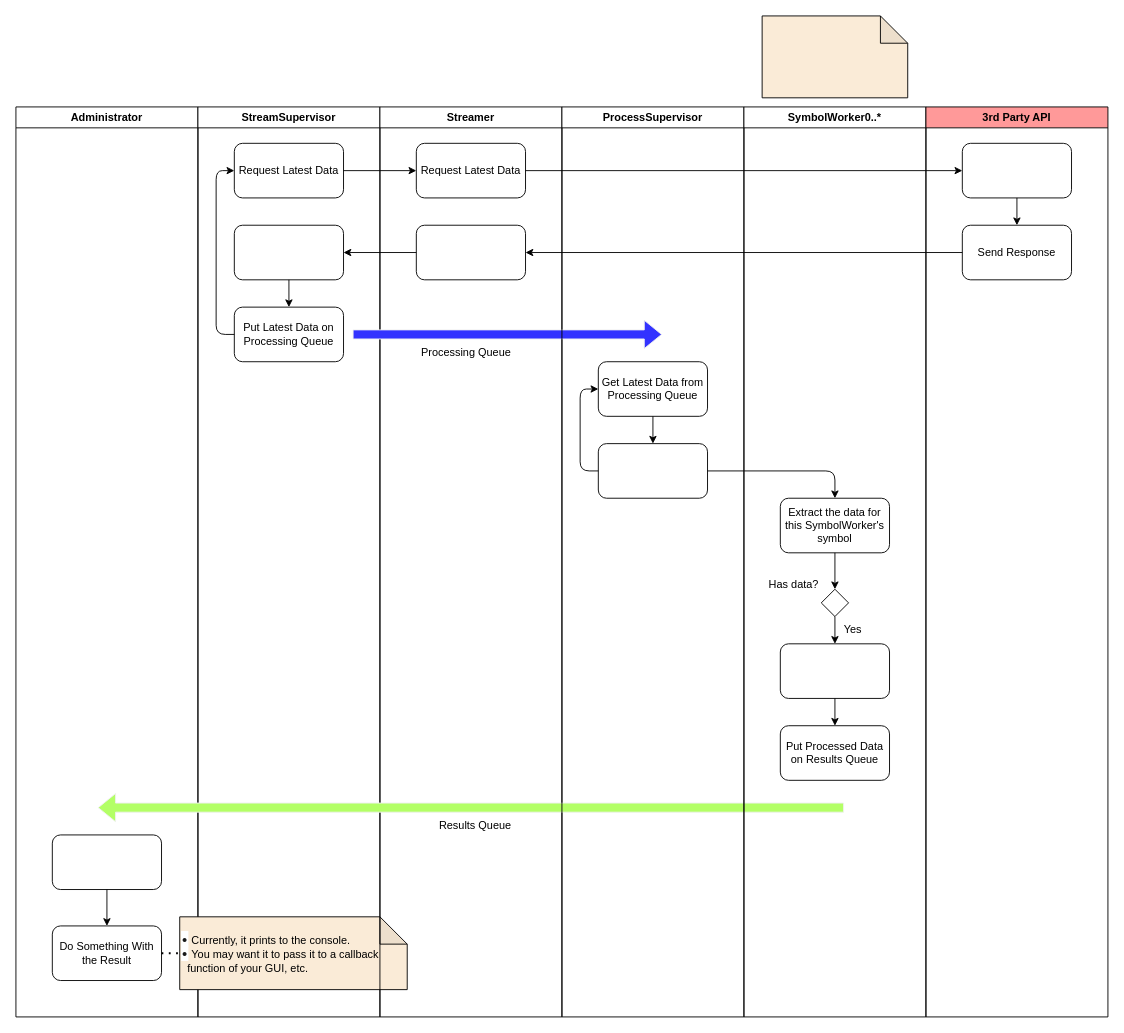
Some shapes in this 1124 by 1033 pixel diagram are drawn without their labels. Here are the shapes that lost their labels. From the top down, the centre of each, then its label:
At pixel 834 56: "There is a 1..* count of SymbolWorkers".
At pixel 1016 170: "Receive Request".
At pixel 288 252: "Receive Latest Data".
At pixel 470 252: "Receive & Return Latest Data".
At pixel 652 470: "Pass Latest Data to Symbol Workers".
At pixel 834 670: "Process Data".
At pixel 106 862: "Get Latest Result from Results Queue".
